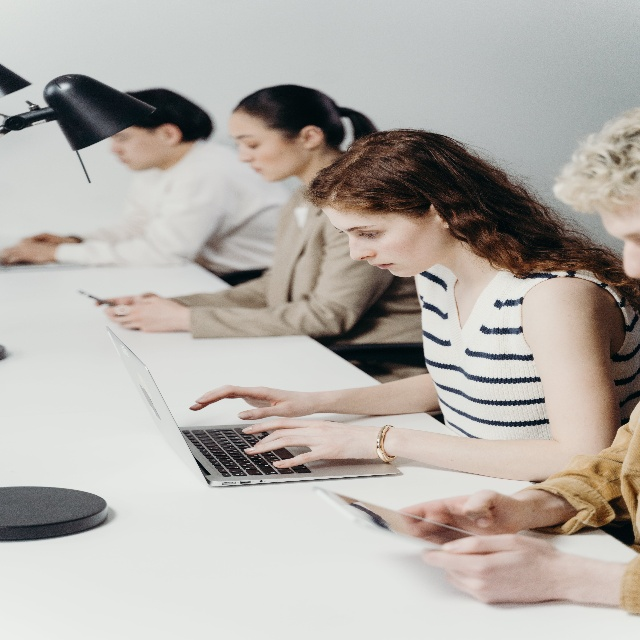Sin_guantes: (419, 533, 565, 600), (241, 420, 374, 464), (403, 488, 521, 532), (188, 382, 313, 419), (108, 293, 175, 334), (6, 239, 56, 267)
